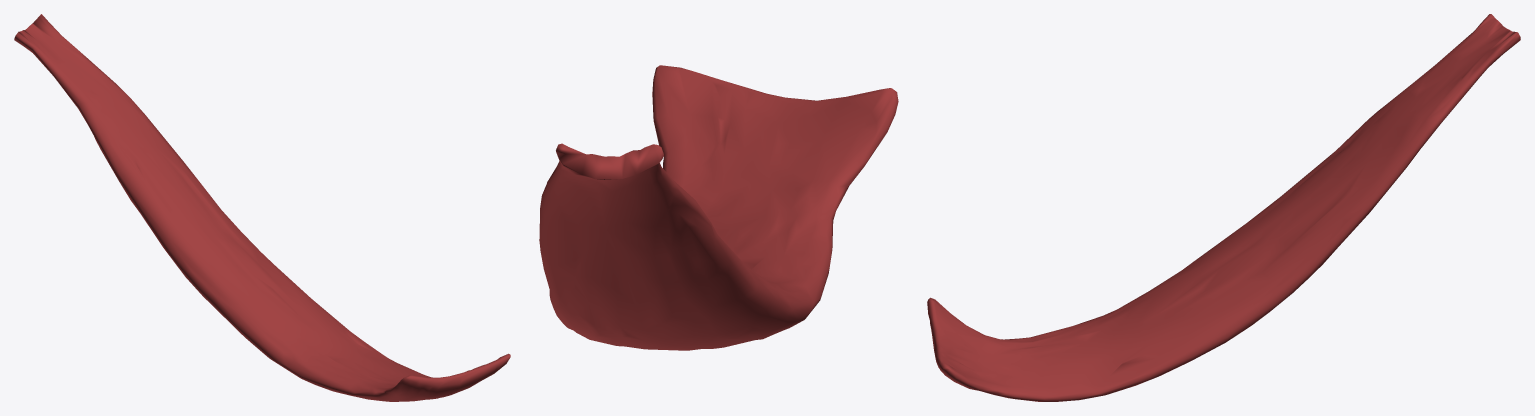
Rendered from inferior-rectus-muscle-l.glb.
3 views of the same model, side by side, from view 1: azimuth 30°, elevation 25°; view 2: azimuth 150°, elevation 25°; view 3: azimuth 270°, elevation 25° (orthographic). The views are drawn at different scales.
Visible parts, largest first — view 1: Inferior rectus muscle.l; view 2: Inferior rectus muscle.l; view 3: Inferior rectus muscle.l.
Boxes of the visible parts, x1=… form: Inferior rectus muscle.l: x1=14, y1=14, x2=510, y2=401; Inferior rectus muscle.l: x1=539, y1=65, x2=898, y2=350; Inferior rectus muscle.l: x1=927, y1=14, x2=1520, y2=401.
Size of the model in its own units: 0.0222 by 0.0218 by 0.0414.
